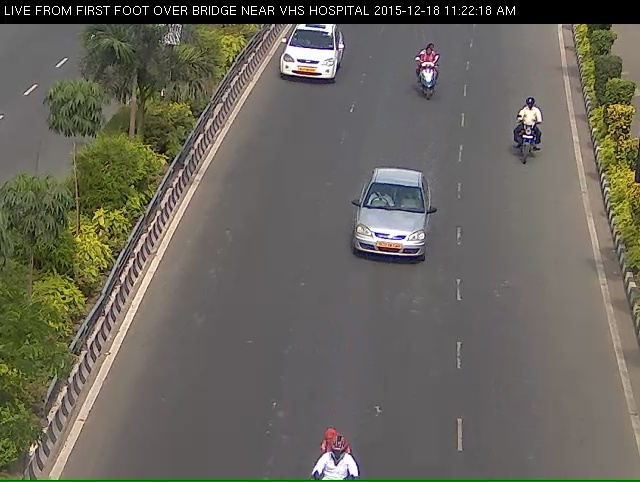Car: (342, 170, 433, 281), (270, 23, 339, 90)
Person: (512, 99, 549, 175), (410, 44, 448, 108)
